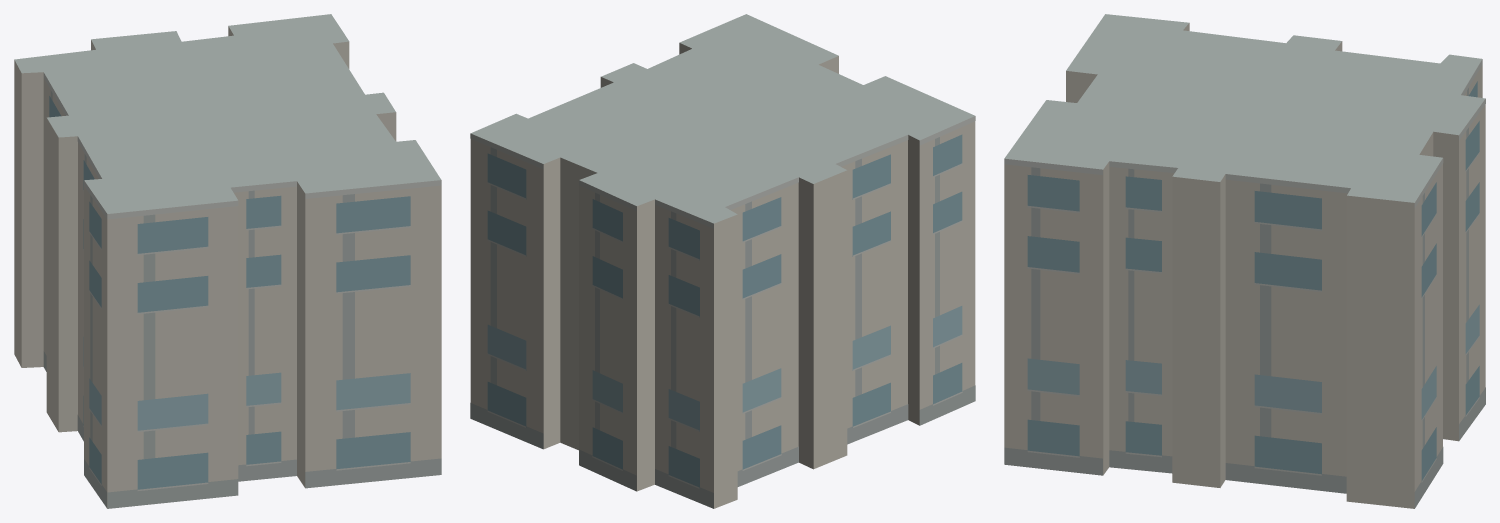
File: survey-upis-32831628.glb
3 renders of one model, left to right at view 1: azimuth 30°, elevation 25°; view 2: azimuth 150°, elevation 25°; view 3: azimuth 270°, elevation 25°, orthographic. The views are drawn at different scales.
Visible parts, largest first — view 1: survey-upis-32831628.tmp; view 2: survey-upis-32831628.tmp; view 3: survey-upis-32831628.tmp.
Boxes of the visible parts, box(x1,y1,x2,y2) form: survey-upis-32831628.tmp: box(14, 14, 441, 508); survey-upis-32831628.tmp: box(470, 14, 975, 508); survey-upis-32831628.tmp: box(1004, 14, 1485, 508).
Size of the model in its own units: 17.61 by 13.3 by 18.97.
